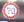Speed Limit -70-: (0, 1, 23, 21)
